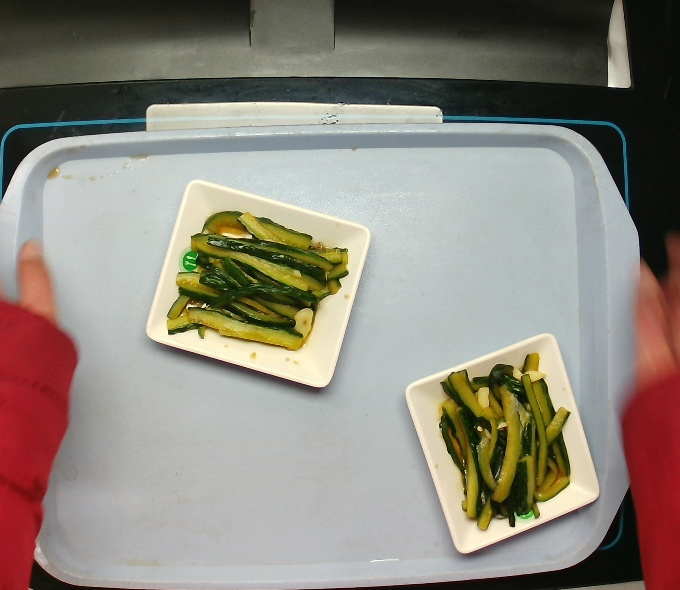wcq-LiangBanHuangGua: (165, 210, 350, 352), (438, 352, 571, 532)
